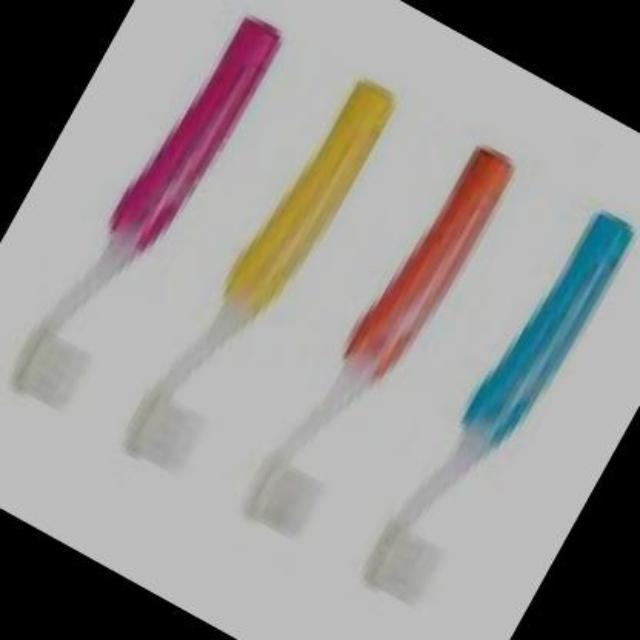toothbrush: (0, 0, 326, 448)
